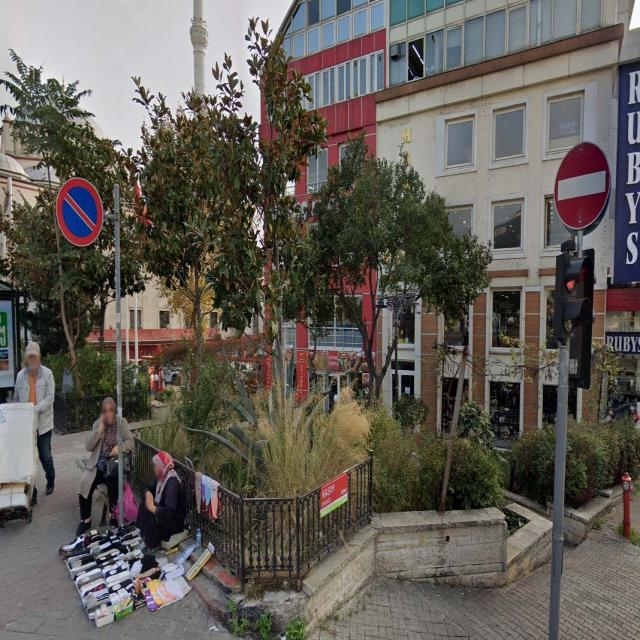girisyok: (555, 143, 610, 226)
parkyasak: (57, 177, 103, 247)
